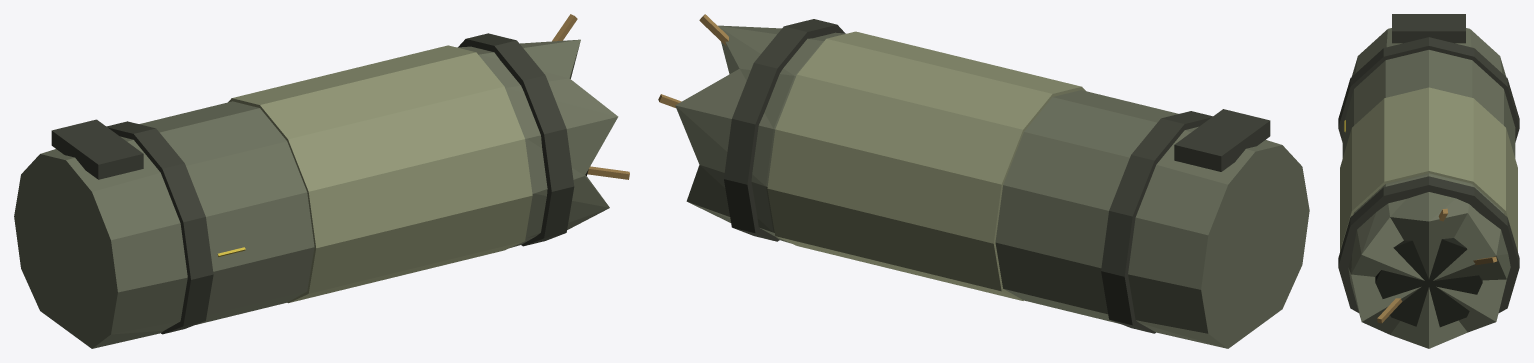
Rendered from shippart_psychicdroner.obj.
The picture shows the model from 3 angles, left to right: view 1: azimuth 30°, elevation 25°; view 2: azimuth 150°, elevation 25°; view 3: azimuth 270°, elevation 25°; orthographic projection. The views are drawn at different scales.
Parts seen in each view (by area): view 1: shippart_psychicdroner; view 2: shippart_psychicdroner; view 3: shippart_psychicdroner.
Part boxes in pixels (x1,y1,x2,y2): shippart_psychicdroner: (14, 14, 629, 348); shippart_psychicdroner: (658, 14, 1309, 348); shippart_psychicdroner: (1338, 14, 1519, 348).
Size of the model in its own units: 5.92 by 1.92 by 2.2.
